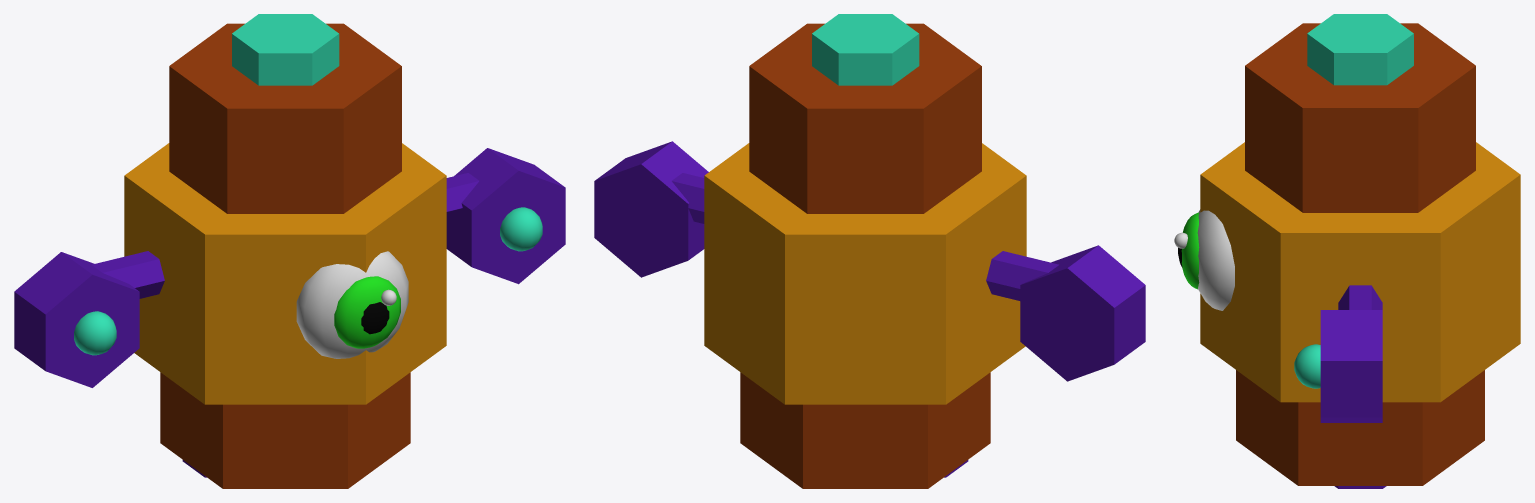
The model's file is Enemy_hexgiant.fbx.
3 views of the same model, side by side, from view 1: azimuth 30°, elevation 25°; view 2: azimuth 150°, elevation 25°; view 3: azimuth 270°, elevation 25° (orthographic).
Parts seen in each view (by area): view 1: Enemy_hexgiant; view 2: Enemy_hexgiant; view 3: Enemy_hexgiant.
Boxes of the visible parts, x1=… form: Enemy_hexgiant: x1=14, y1=14, x2=565, y2=488; Enemy_hexgiant: x1=594, y1=14, x2=1145, y2=488; Enemy_hexgiant: x1=1174, y1=14, x2=1520, y2=488.
Bounding box in the file's own units: 1.34 × 1.02 × 0.7787.
